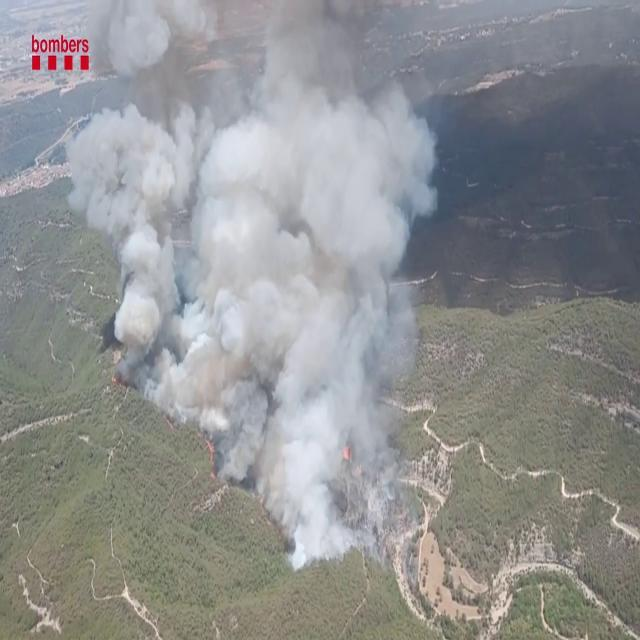Smoke: (68, 0, 446, 571)
